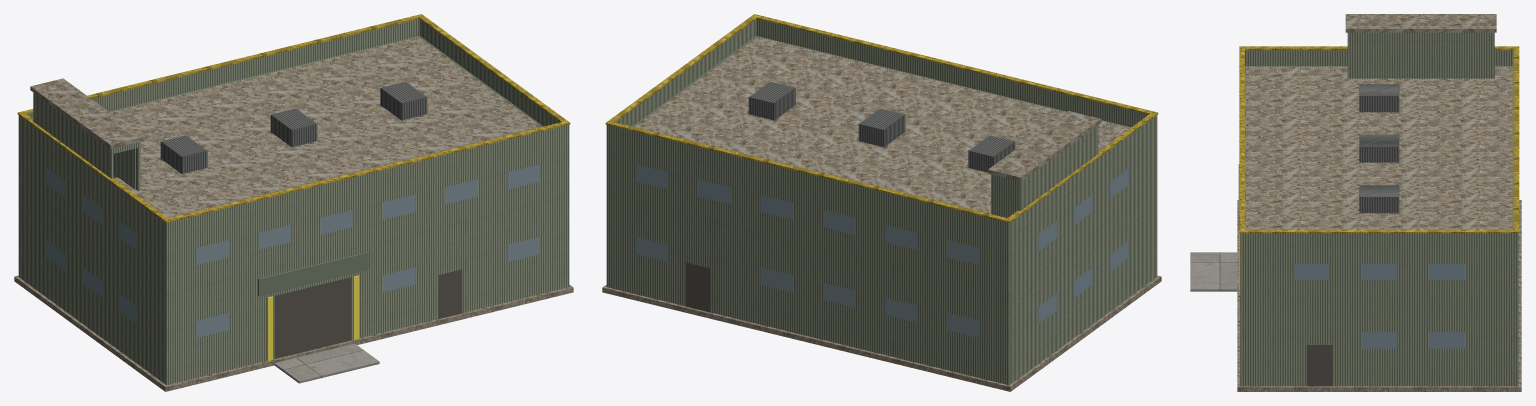
The model's file is mb-armory.garrison-v1.lod1.glb.
3 renders of one model, left to right at view 1: azimuth 30°, elevation 25°; view 2: azimuth 150°, elevation 25°; view 3: azimuth 270°, elevation 25°, orthographic. The views are drawn at different scales.
Visible parts, largest first — view 1: mb-armory; view 2: mb-armory; view 3: mb-armory.
Boxes of the visible parts, x1,y1,x2,y2 form: mb-armory: (14, 14, 573, 391); mb-armory: (602, 14, 1161, 391); mb-armory: (1190, 14, 1521, 391).
Bounding box in the file's own units: 22.3 × 10.65 × 16.65.
Materials: 4 (3 with a texture image).
